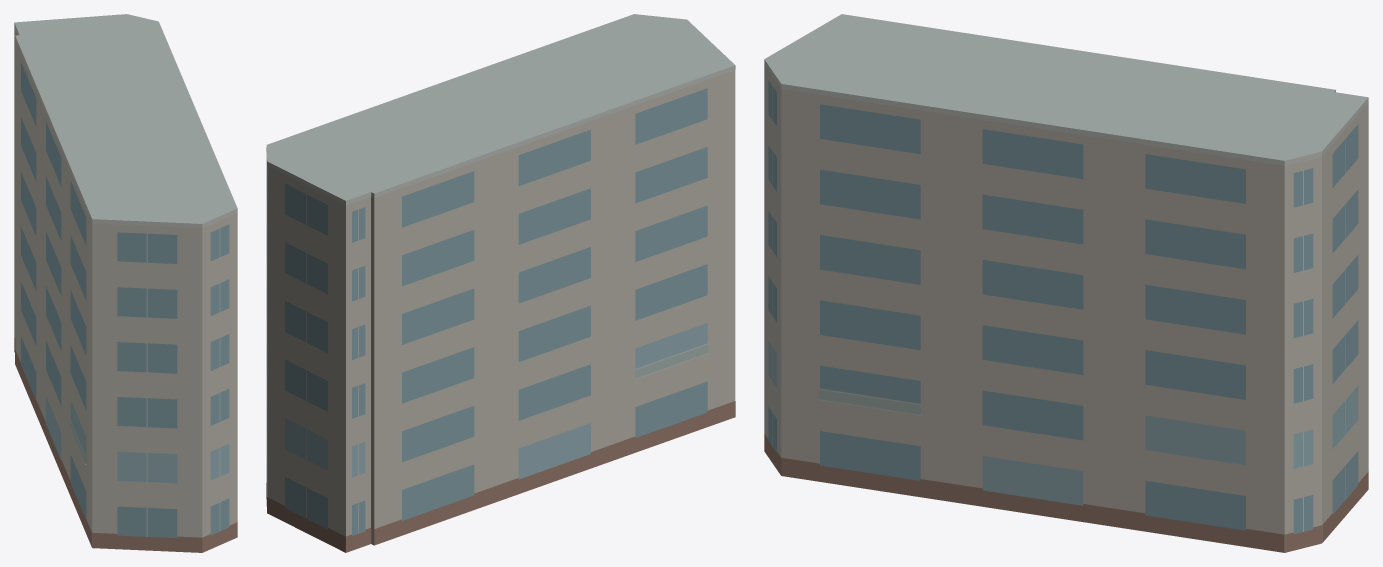
The model's file is survey-upis-32877506.glb.
The picture shows the model from 3 angles, left to right: view 1: azimuth 30°, elevation 25°; view 2: azimuth 150°, elevation 25°; view 3: azimuth 270°, elevation 25°; orthographic projection. The views are drawn at different scales.
Parts seen in each view (by area): view 1: survey-upis-32877506.tmp; view 2: survey-upis-32877506.tmp; view 3: survey-upis-32877506.tmp.
Part boxes in pixels (x1,y1,x2,y2): survey-upis-32877506.tmp: [14, 14, 237, 552]; survey-upis-32877506.tmp: [266, 14, 735, 552]; survey-upis-32877506.tmp: [764, 14, 1368, 552].
Size of the model in its own units: 14.87 by 18.5 by 25.86.
